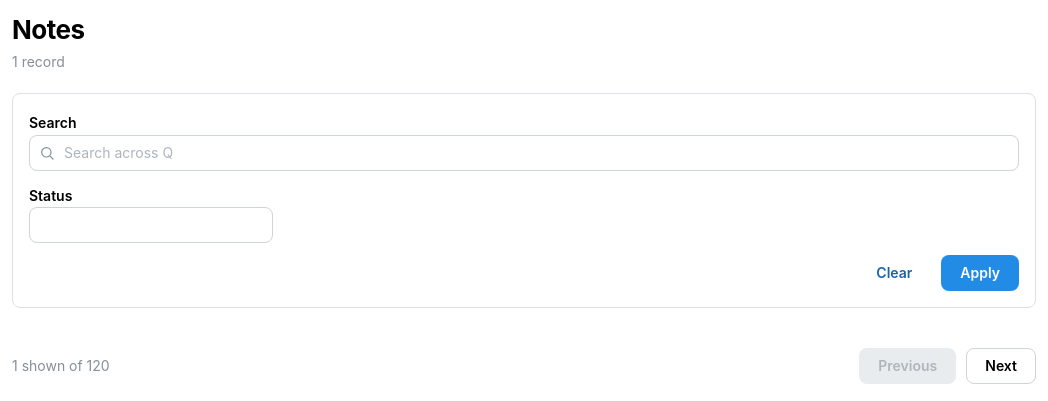
ListPage cursor pagination › renders NO pager when the list fits in one page (no cursor on the wire)
The width and height of the screenshot is (1048, 401).
Check: the button "Next" is shown, box [966,348,1036,384]
Click the button "Apply".
click(980, 273)  # box [941,255,1019,291]
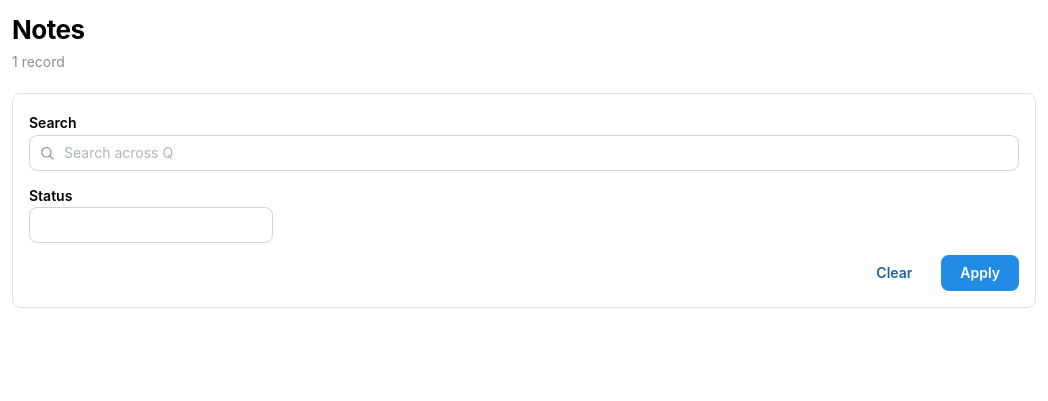
Check: the button "Next" is gone
Check: the button "Previous" is gone
